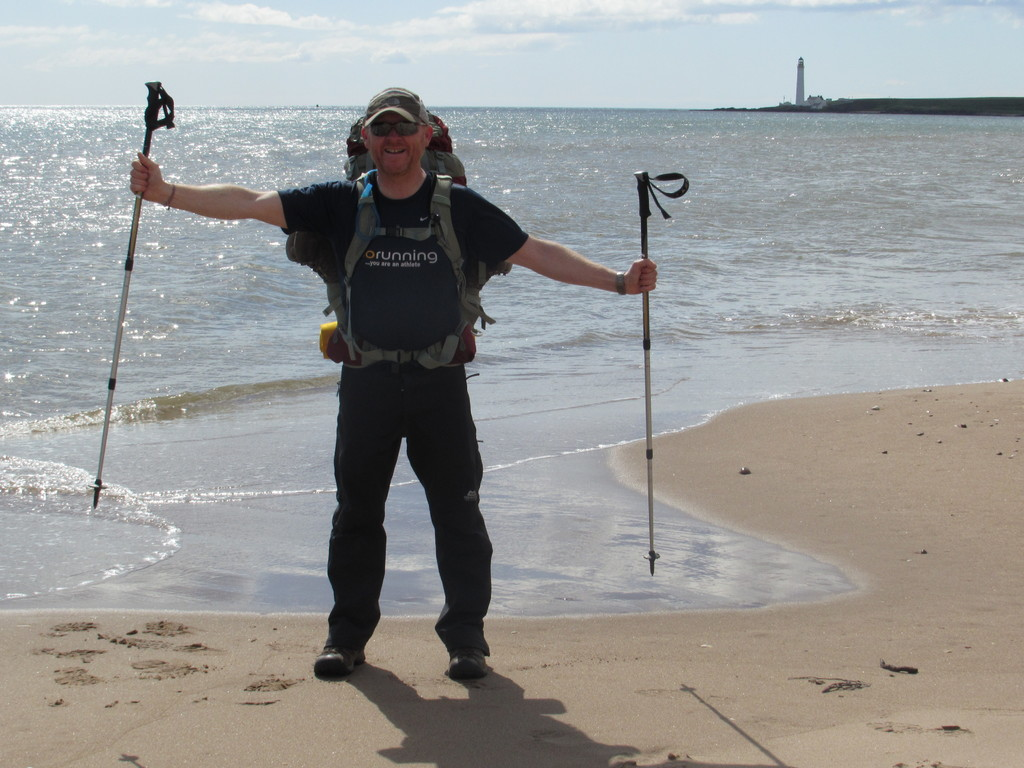Person: (129, 87, 657, 678)
